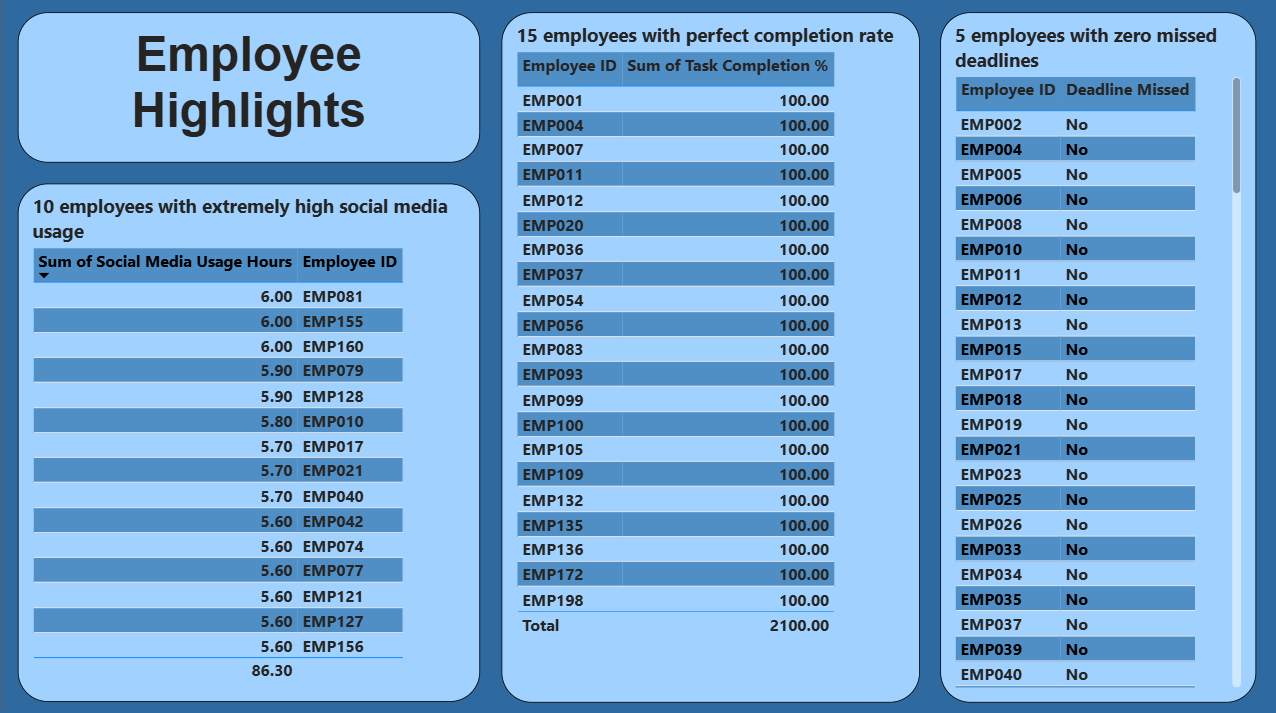

The dashboard page shown, as its layout file describes it:
{"tool":"powerbi","page":{"name":"Employee Highlights","canvas":[1280,720],"ordinal":2},"visuals":[{"type":"tableEx","title":"10 employees with extremely high social media usage","fields":{"Values":["Sum(Laziness_Analysis_200_Records.Social_Media_Usage_Hours)","Laziness_Analysis_200_Records.Employee_ID"]},"box":[13.8,187.5,462.5,518.8],"z":0},{"type":"tableEx","title":"15 employees with perfect completion rate","fields":{"Values":["Laziness_Analysis_200_Records.Employee_ID","Sum(Laziness_Analysis_200_Records.Task Completion %)"]},"box":[497.5,16.2,418.8,690],"z":1000},{"type":"tableEx","title":"5 employees with zero missed deadlines","fields":{"Values":["Laziness_Analysis_200_Records.Employee_ID","Laziness_Analysis_200_Records.Deadline_Missed"]},"box":[936.2,16.2,316.2,690],"z":2000},{"type":"textbox","box":[13.8,16.2,462.5,150],"z":2001}]}

Visuals, with their boxes in screenshot pixels (x1, y1, x2, y2), scaled from the page's 1280x720 canvas onto the 1276x713 screenshot:
"10 employees with extremely high social media usage" tableEx: BBox(14, 186, 475, 699)
"15 employees with perfect completion rate" tableEx: BBox(496, 16, 913, 699)
"5 employees with zero missed deadlines" tableEx: BBox(933, 16, 1248, 699)
textbox: BBox(14, 16, 475, 165)
